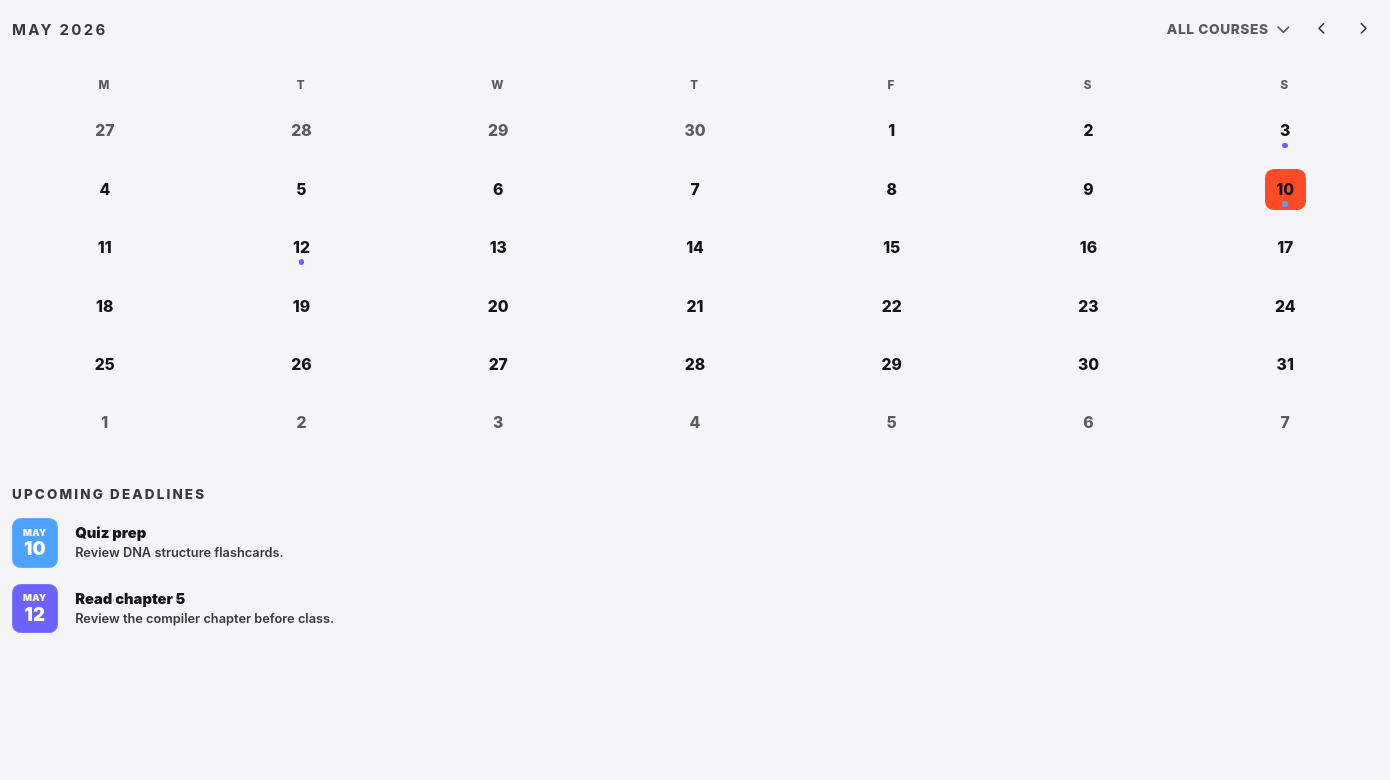
Test: DeadlineCalendar › applies the course filter to the selected day view
Expected: the heading "Upcoming Deadlines" is shown, [12,486,206,502]
Click the button "All courses" at coordinates (1229, 30), box [1158,12,1300,47]
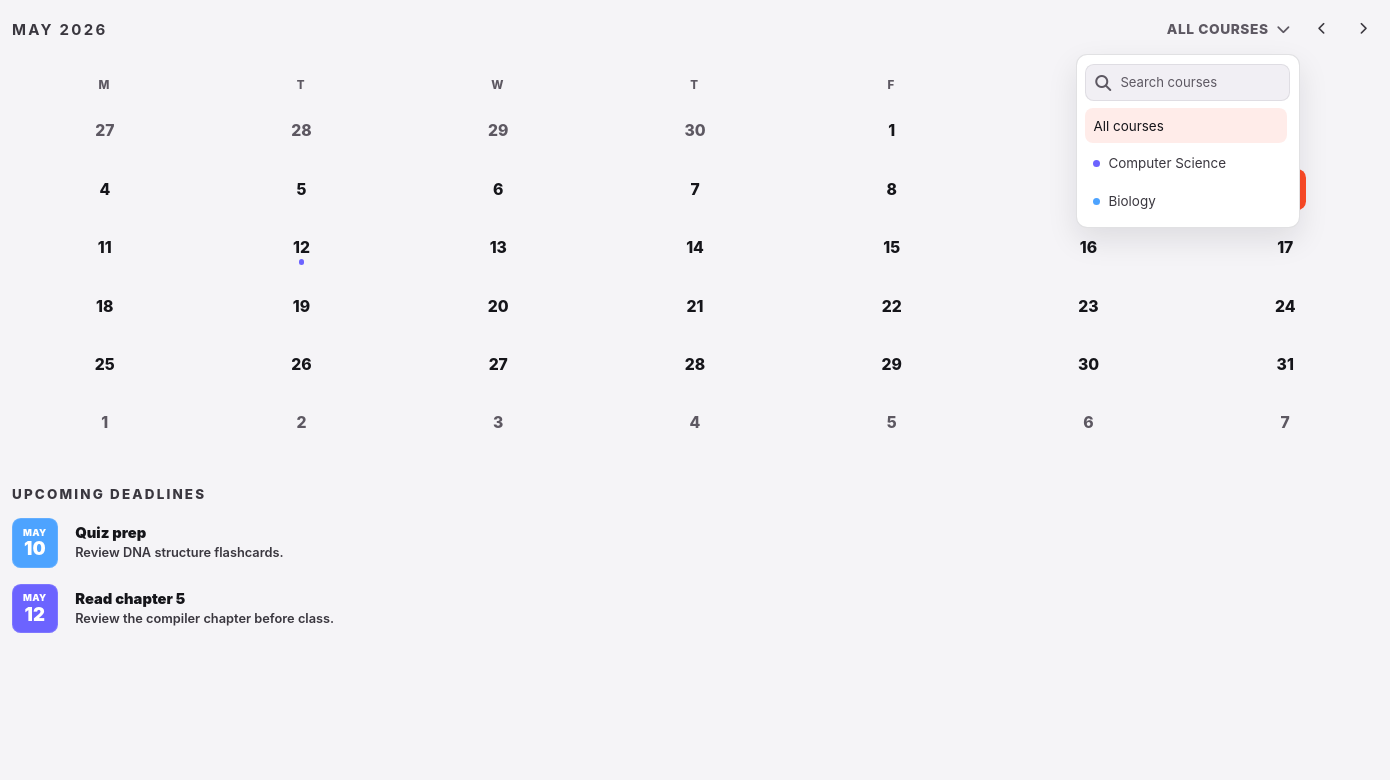
Type "bio" into the search field labelled "Search courses" at coordinates (1199, 83), box [1118,72,1280,94]
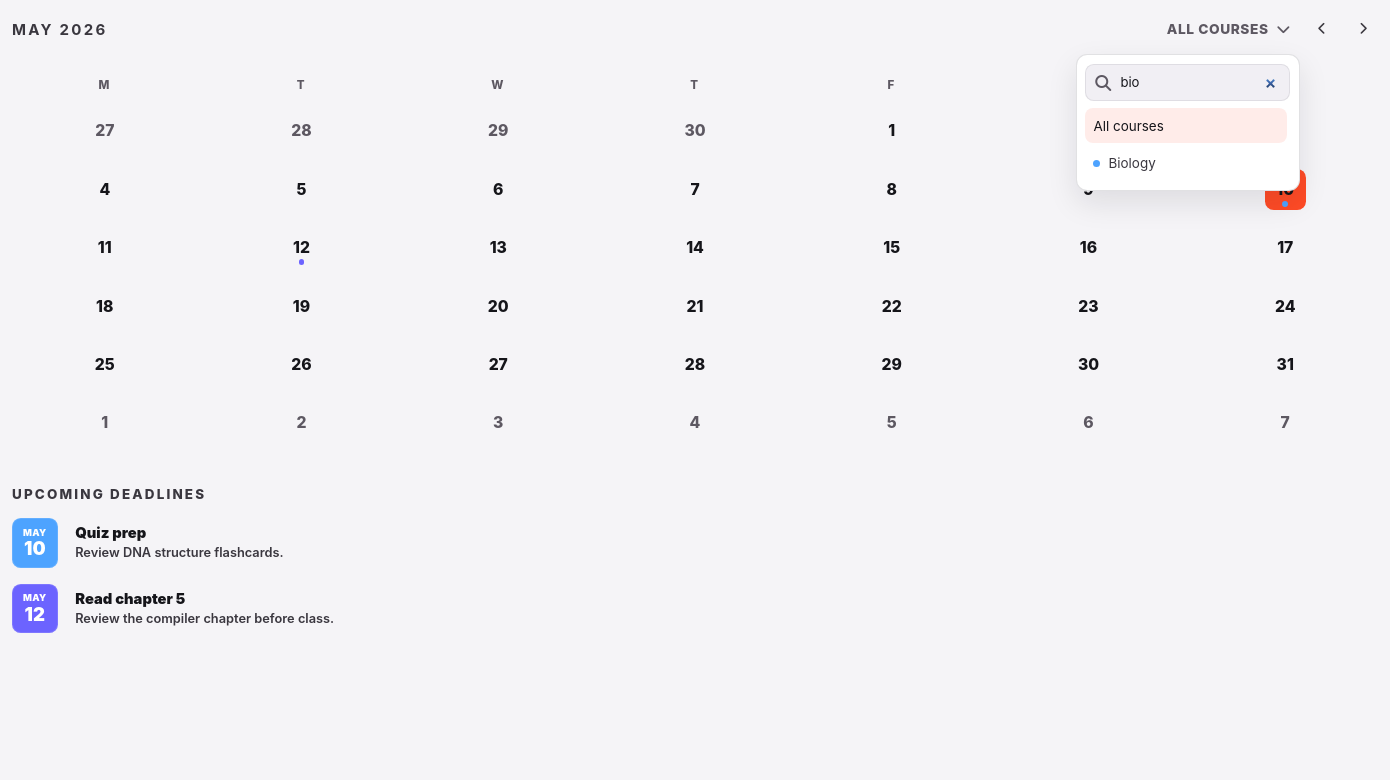
Click the option "Biology" at coordinates (1186, 163), box [1085,146,1287,181]
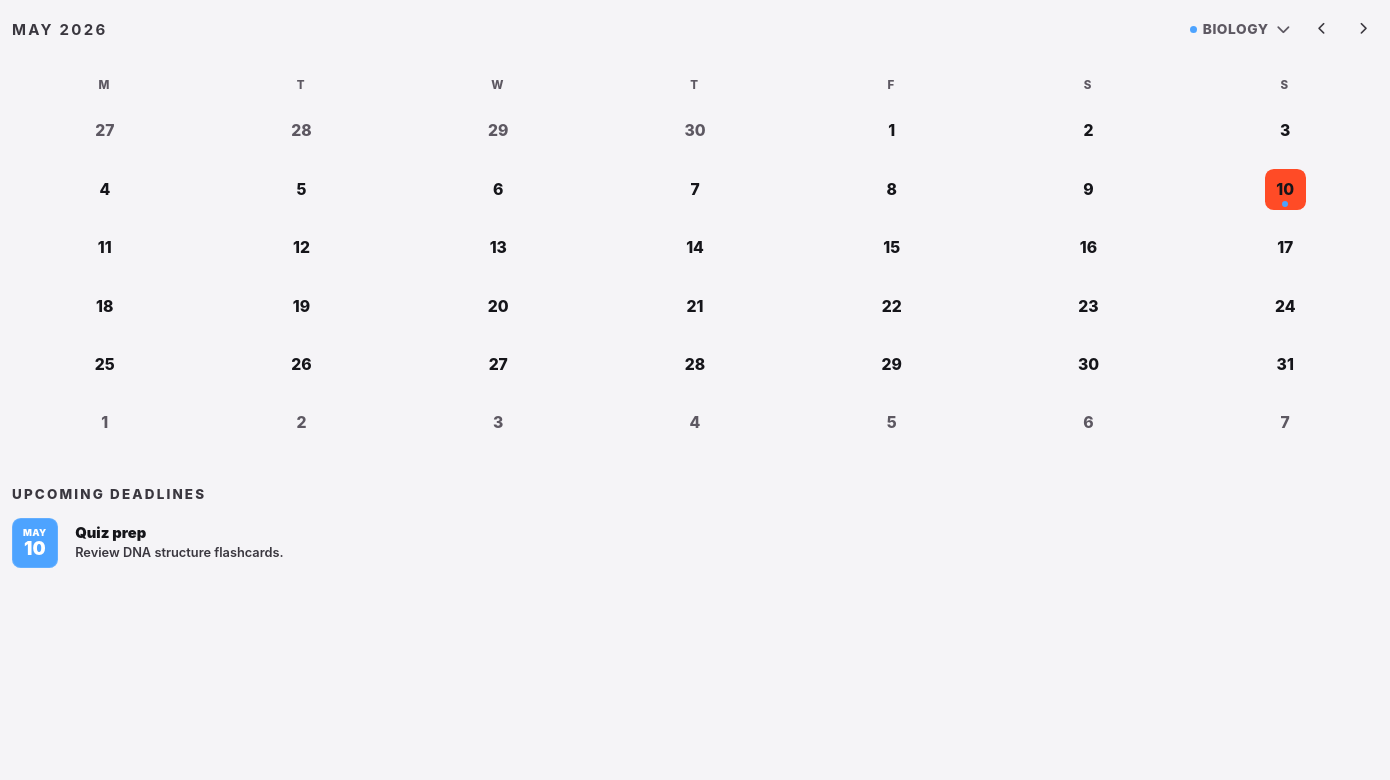
Click the button named "03.05.2026" at coordinates (1285, 131), box [1265,111,1306,152]
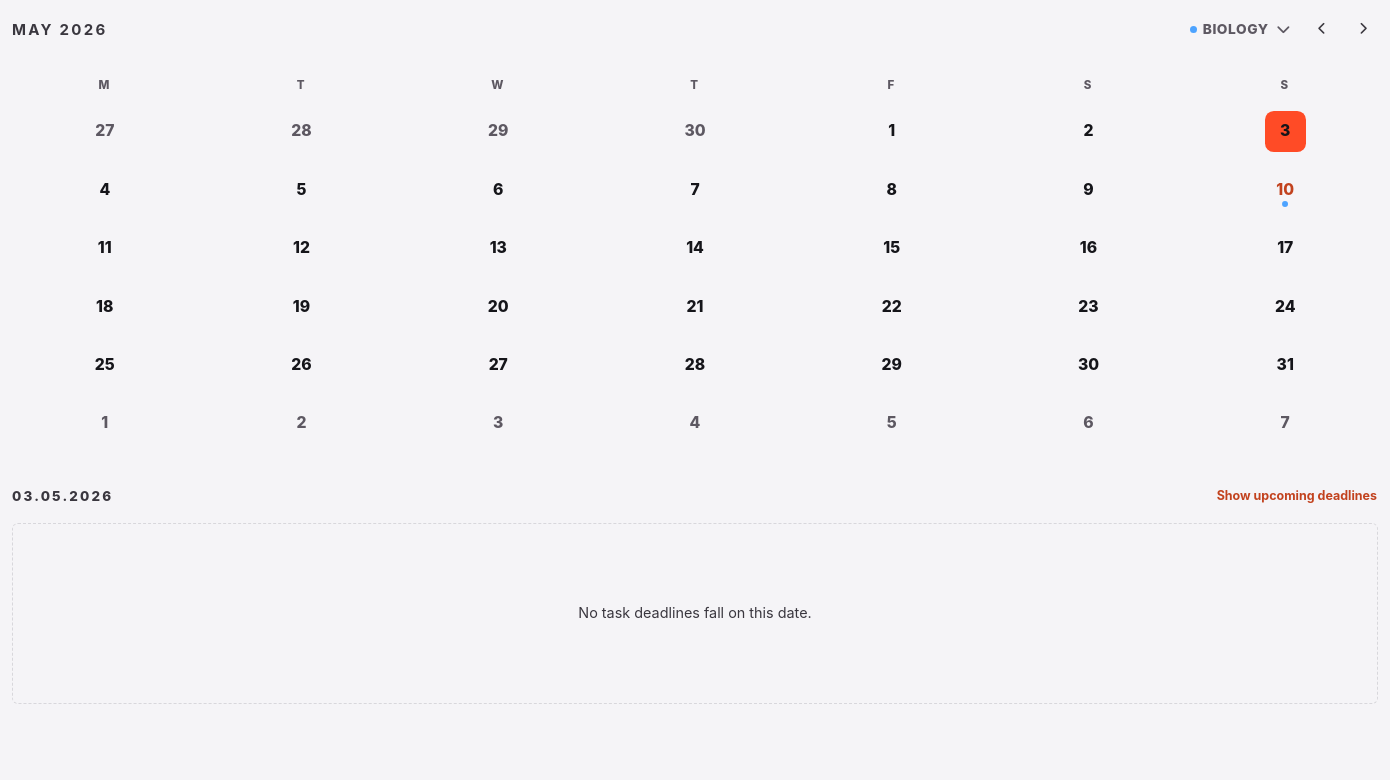
Expected: the heading "03.05.2026" is shown, [12,488,113,504]
Expected: the text "No task deadlines fall on this date." is shown, [12,523,1378,704]
